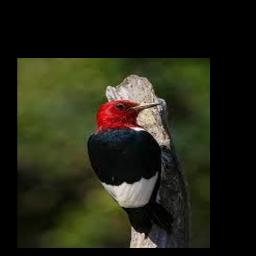Woodpecker: (84, 100, 173, 237)
